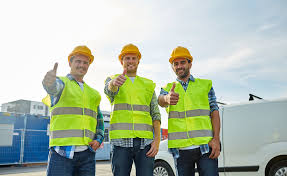hard hat: (68, 44, 94, 63), (168, 46, 193, 62), (119, 43, 141, 61)
high-vis: (48, 75, 99, 147), (168, 77, 214, 147), (111, 69, 155, 139)
